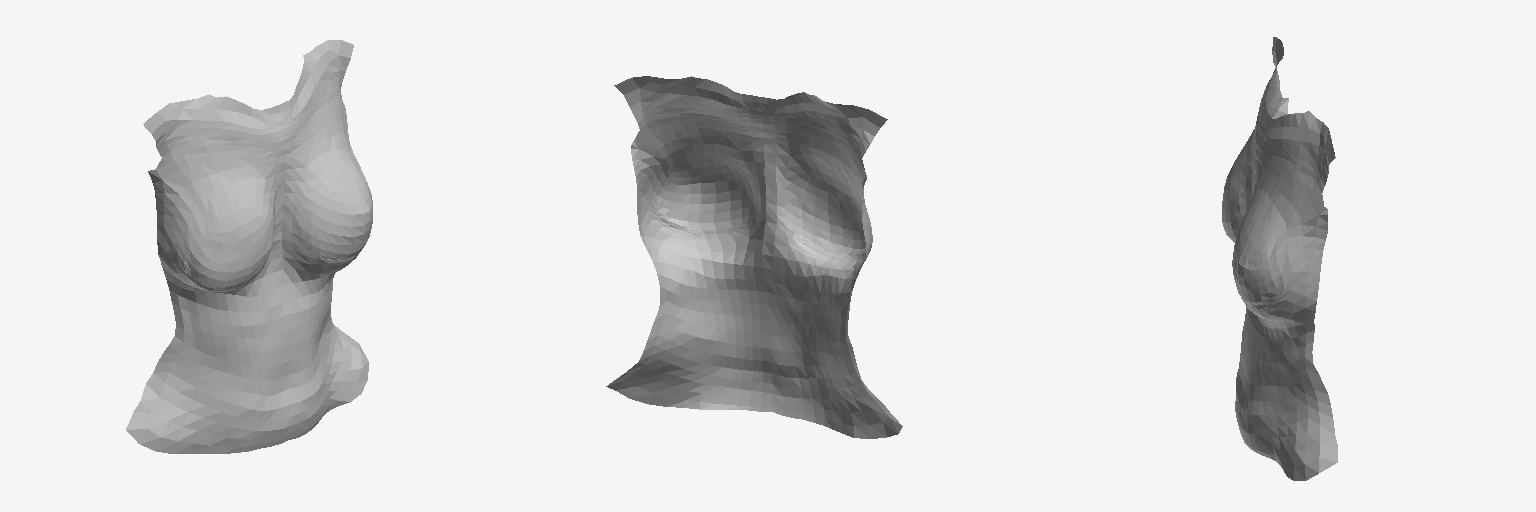
The model's file is Model3_deformed_alpha_1_Template1030.obj.
3 renders of one model, left to right at view 1: azimuth 30°, elevation 25°; view 2: azimuth 150°, elevation 25°; view 3: azimuth 270°, elevation 25°, orthographic.
Bounding box in the file's own units: 0.3391 × 0.4282 × 0.1293.